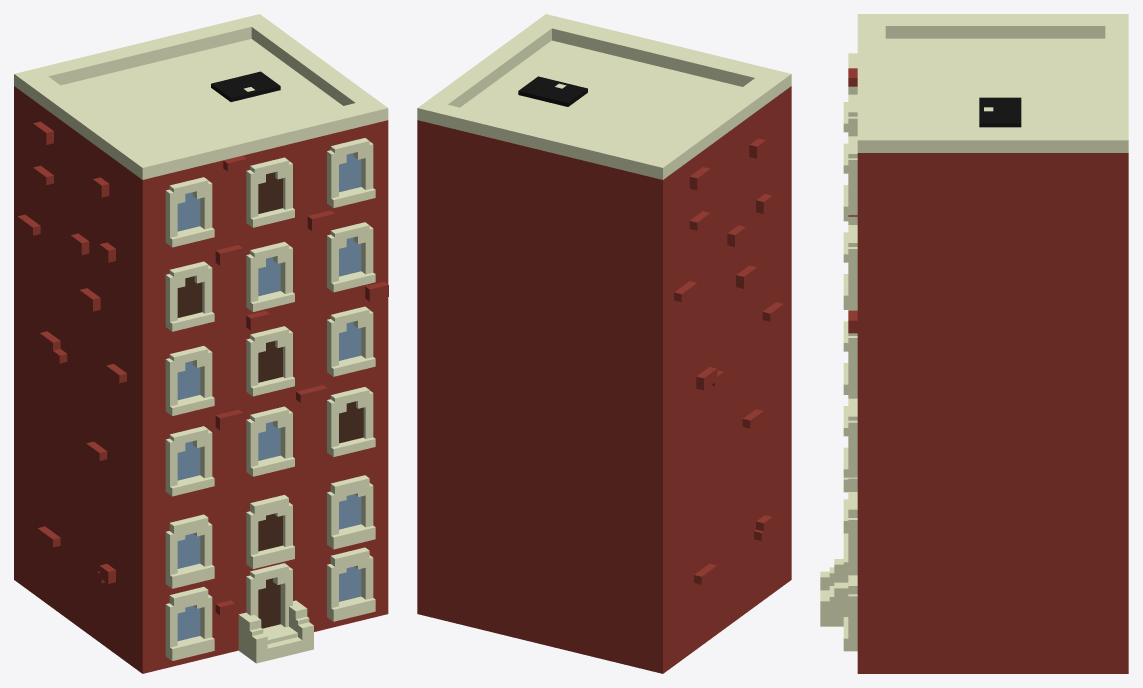
The model's file is map v1.0-29-house.obj.
The picture shows the model from 3 angles, left to right: view 1: azimuth 30°, elevation 25°; view 2: azimuth 150°, elevation 25°; view 3: azimuth 270°, elevation 25°; orthographic projection. The views are drawn at different scales.
Visible parts, largest first — view 1: house; view 2: house; view 3: house.
Part boxes in pixels (left/top/right/bottom): house: left=14, top=14, right=388, bottom=673; house: left=417, top=14, right=791, bottom=673; house: left=820, top=14, right=1128, bottom=673.
Size of the model in its own units: 6.6 by 12.6 by 6.6.
Materials: 1 (1 with a texture image).
